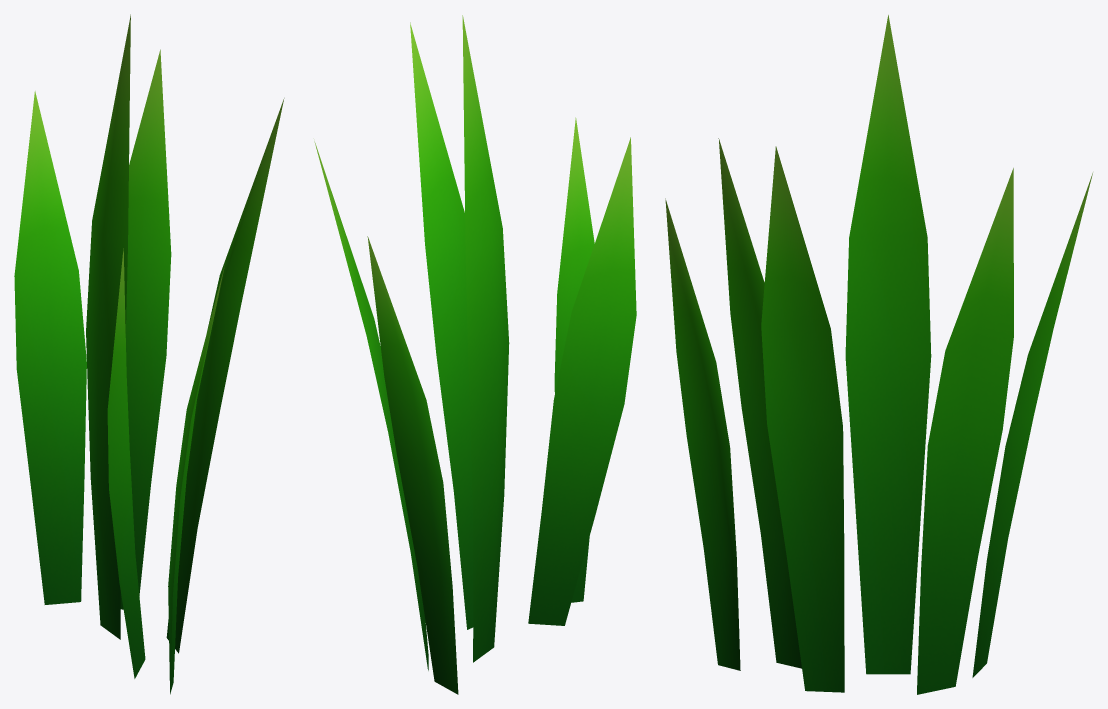
Rendered from Big_Grass_Anim.fbx.
The picture shows the model from 3 angles, left to right: view 1: azimuth 30°, elevation 25°; view 2: azimuth 150°, elevation 25°; view 3: azimuth 270°, elevation 25°; orthographic projection. The views are drawn at different scales.
Parts seen in each view (by area): view 1: Big_Grass; view 2: Big_Grass; view 3: Big_Grass.
Part boxes in pixels (x1=…): Big_Grass: x1=14, y1=14, x2=284, y2=694; Big_Grass: x1=314, y1=15, x2=636, y2=694; Big_Grass: x1=665, y1=15, x2=1092, y2=694.
Size of the model in its own units: 133 by 395 by 227.
